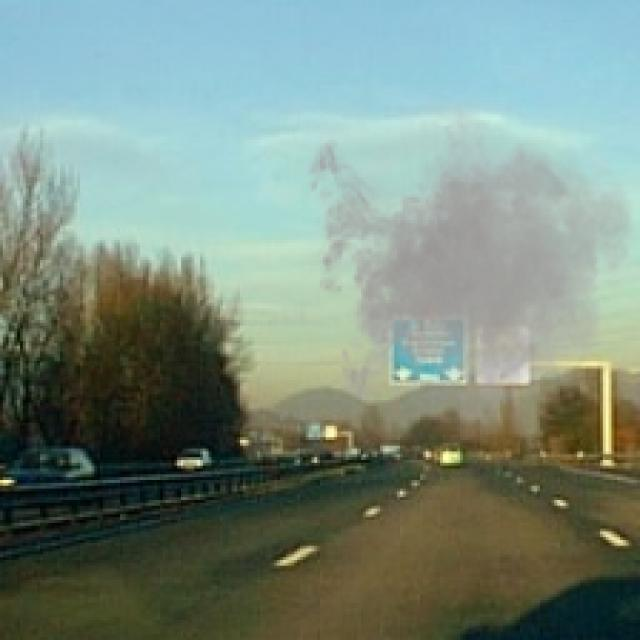Smoke: (297, 86, 637, 457)
